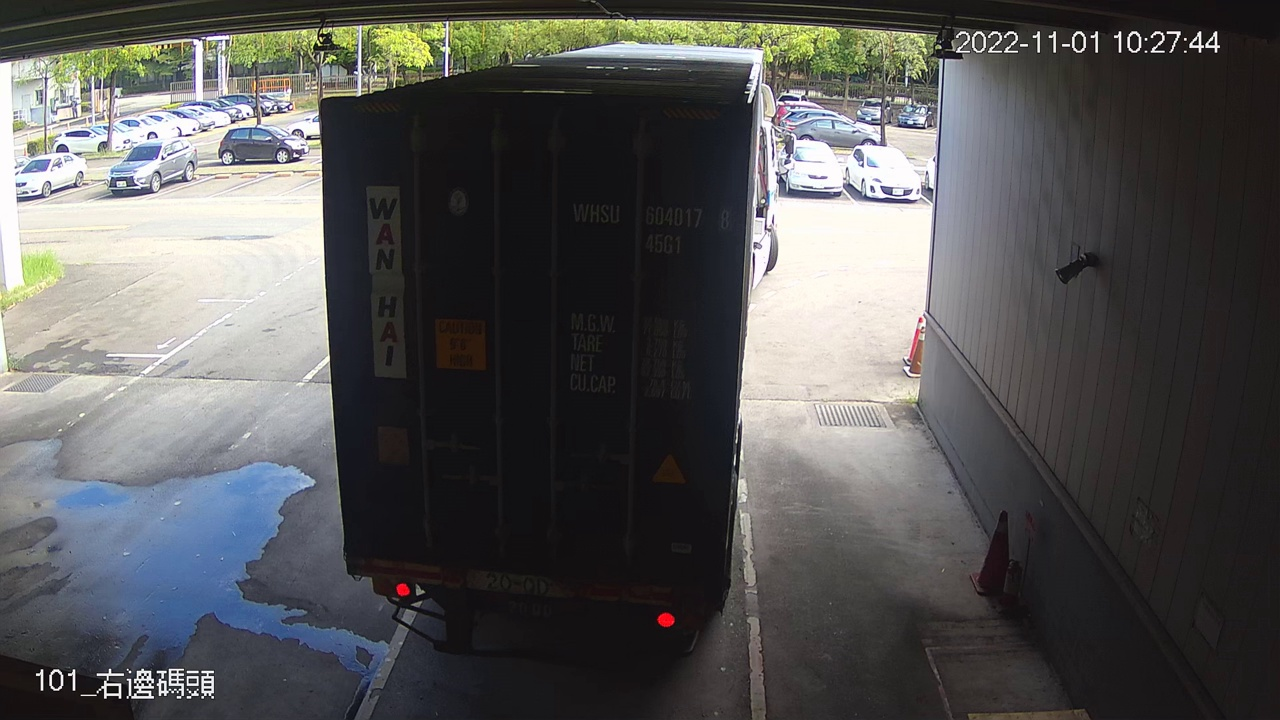container: (562, 194, 739, 260)
